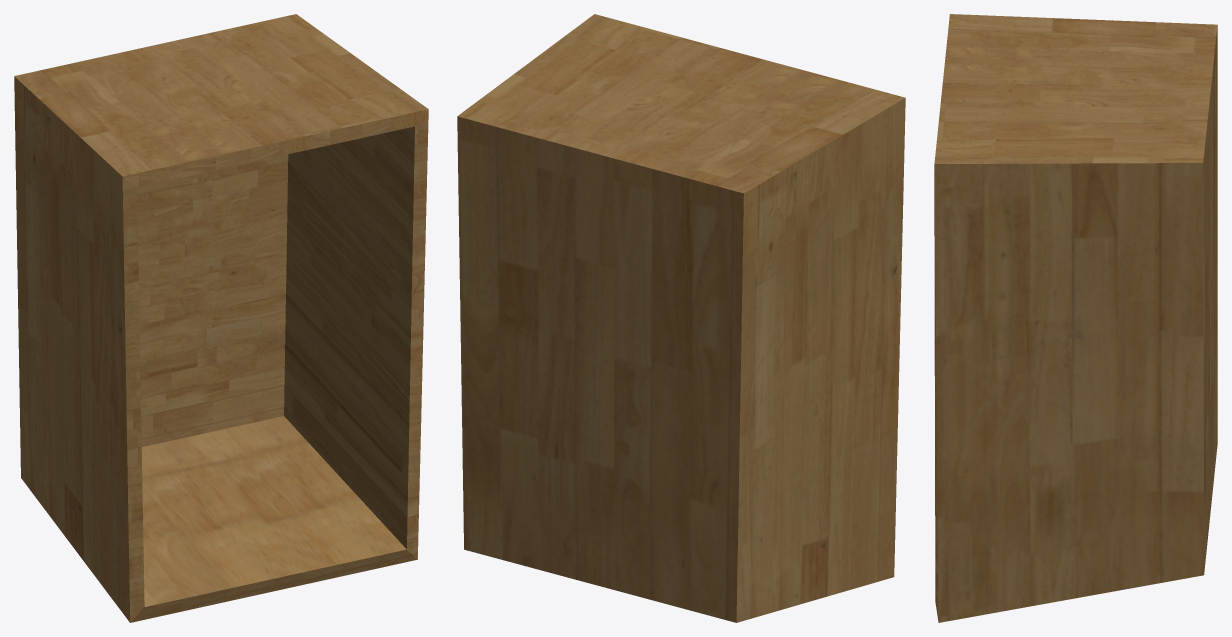
Rendered from Cabnet.glb.
The picture shows the model from 3 angles, left to right: view 1: azimuth 30°, elevation 25°; view 2: azimuth 150°, elevation 25°; view 3: azimuth 270°, elevation 25°; orthographic projection. The views are drawn at different scales.
Parts seen in each view (by area): view 1: WoodenBox; view 2: WoodenBox; view 3: WoodenBox.
Part boxes in pixels (box(x1,y1,x2,y2)): WoodenBox: box(14, 14, 428, 622); WoodenBox: box(457, 14, 905, 622); WoodenBox: box(934, 14, 1217, 622).
Size of the model in its own units: 3.35 by 4.83 by 2.67.
3 materials, 1 textured.
